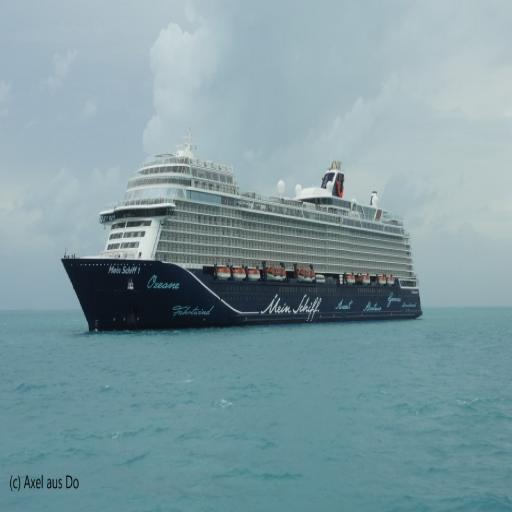cruises: (62, 142, 433, 337)
